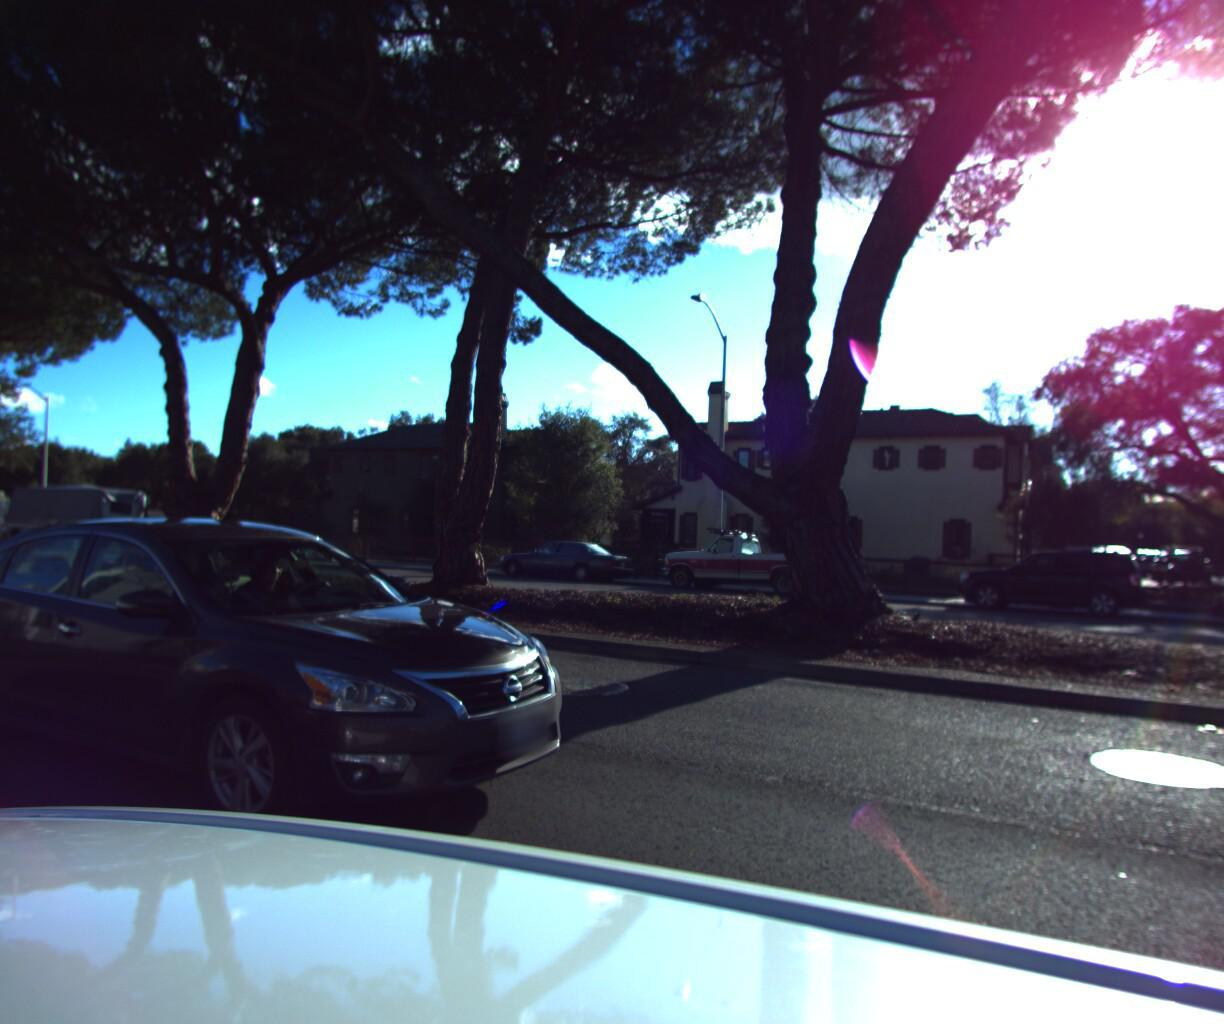car: (0, 507, 631, 908), (948, 538, 1150, 620), (652, 517, 849, 598), (490, 532, 635, 582), (208, 518, 330, 561), (1198, 555, 1224, 642)
other_vehicle: (0, 480, 151, 548), (0, 480, 23, 543)
